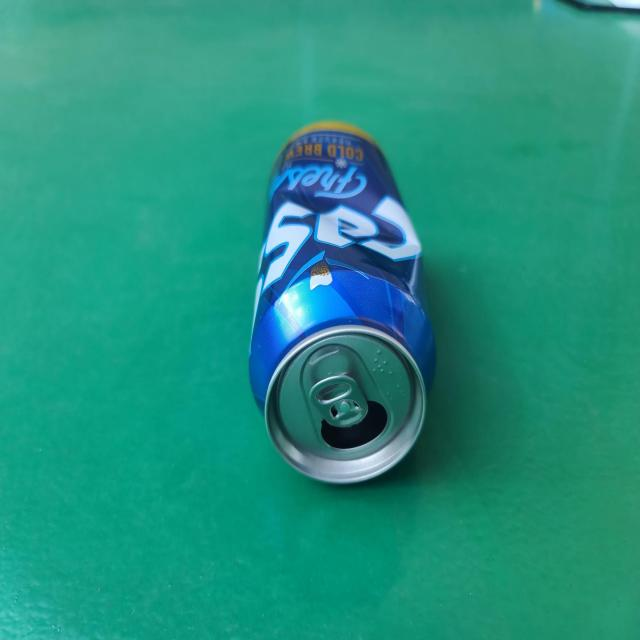can: (249, 123, 436, 484)
